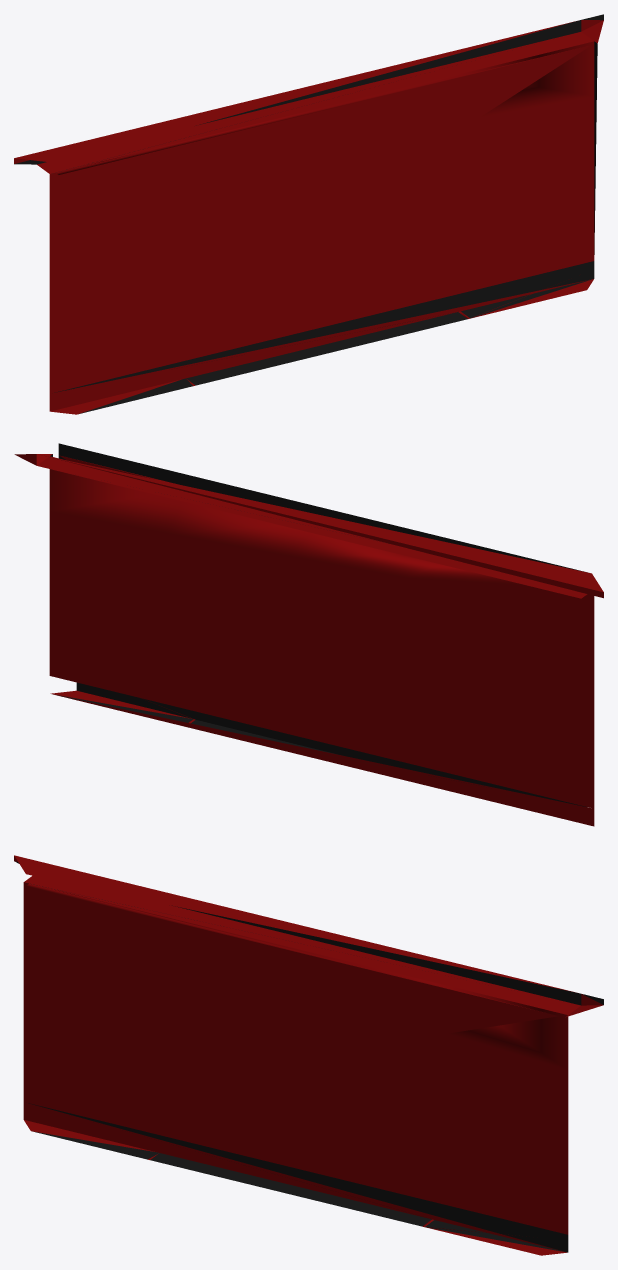
File: original-22-back.obj
3 views of the same model, one above another, from view 1: azimuth 30°, elevation 25°; view 2: azimuth 150°, elevation 25°; view 3: azimuth 330°, elevation 25° (orthographic).
Visible parts, largest first — view 1: mesh39/mesh39-geometry#mesh39-geometry.001; view 2: mesh39/mesh39-geometry#mesh39-geometry.001; view 3: mesh39/mesh39-geometry#mesh39-geometry.001.
Boxes of the visible parts, x1,y1,x2,y2 form: mesh39/mesh39-geometry#mesh39-geometry.001: (14, 14, 603, 414); mesh39/mesh39-geometry#mesh39-geometry.001: (14, 443, 603, 826); mesh39/mesh39-geometry#mesh39-geometry.001: (14, 855, 603, 1255).
Size of the model in its own units: 0.812 by 0.3279 by 0.0547.
